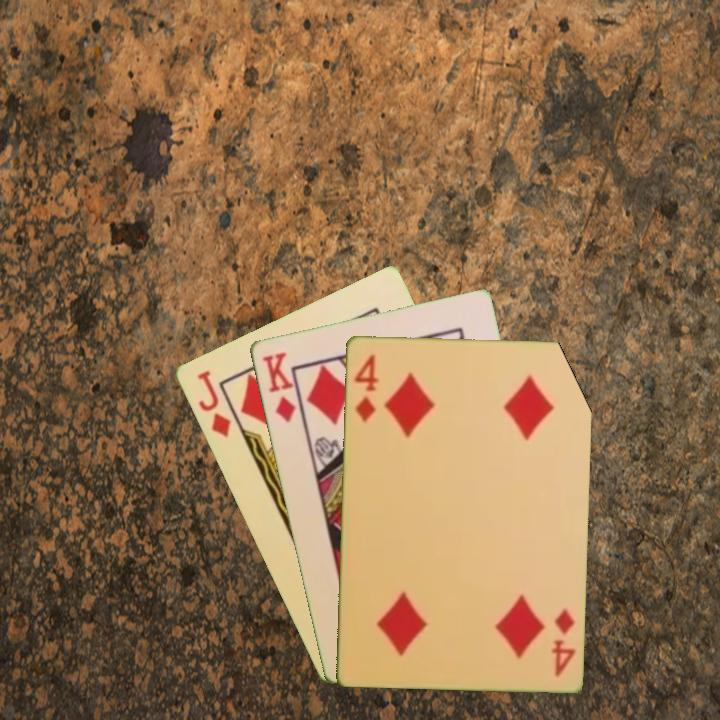4d: (547, 604, 577, 679), (351, 350, 381, 424)
Jd: (193, 367, 234, 440)
Kd: (258, 348, 298, 426)
